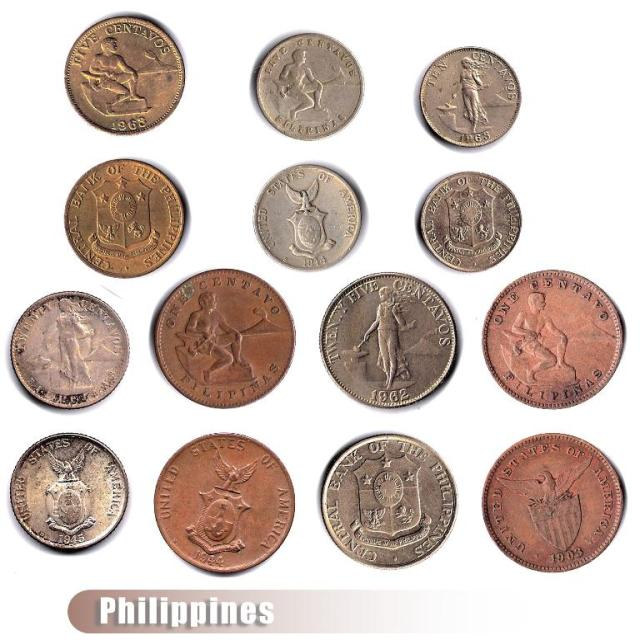Coin: (152, 429, 295, 576), (479, 268, 625, 410), (479, 432, 623, 574), (155, 268, 297, 410), (319, 271, 461, 407), (319, 432, 460, 568), (60, 12, 189, 134), (11, 428, 131, 553), (63, 159, 188, 278), (6, 288, 128, 408), (251, 32, 368, 142), (253, 162, 365, 272), (418, 42, 524, 146), (416, 169, 523, 272)
